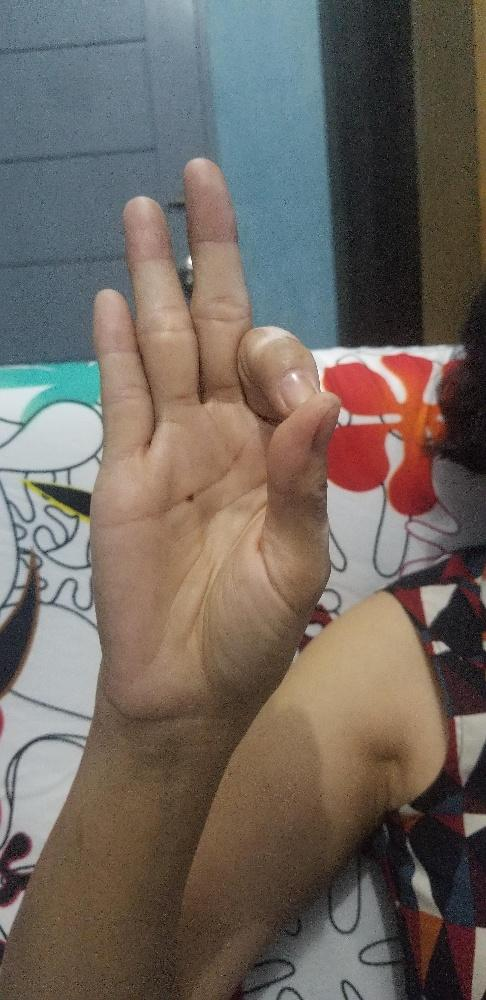f: (84, 154, 343, 713)
